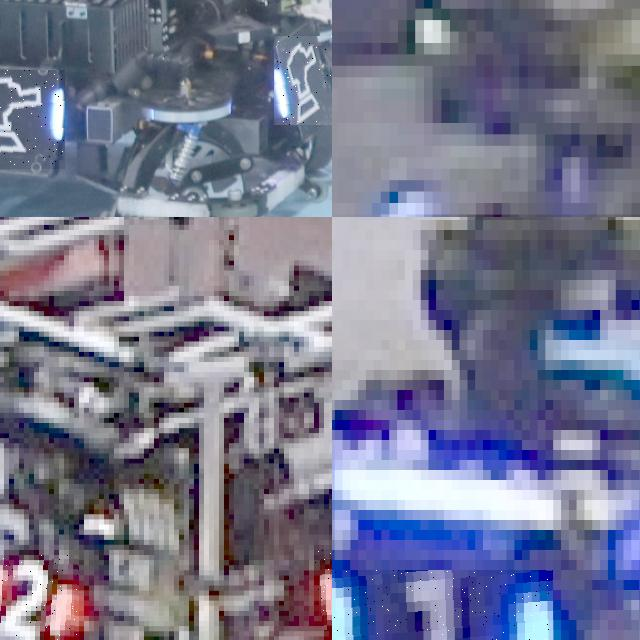B1: (332, 570, 553, 640)
Bs: (0, 70, 64, 168), (274, 36, 332, 124)
R2: (0, 554, 79, 640)
